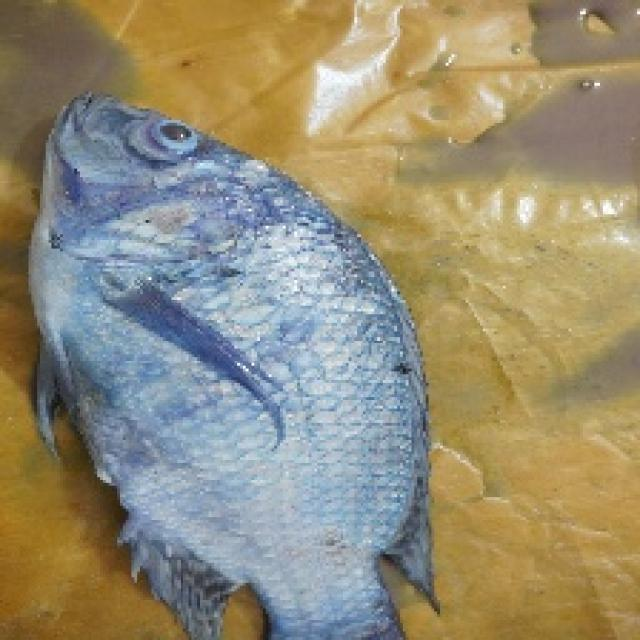Non-Fresh: (18, 88, 428, 566), (145, 112, 202, 164)
